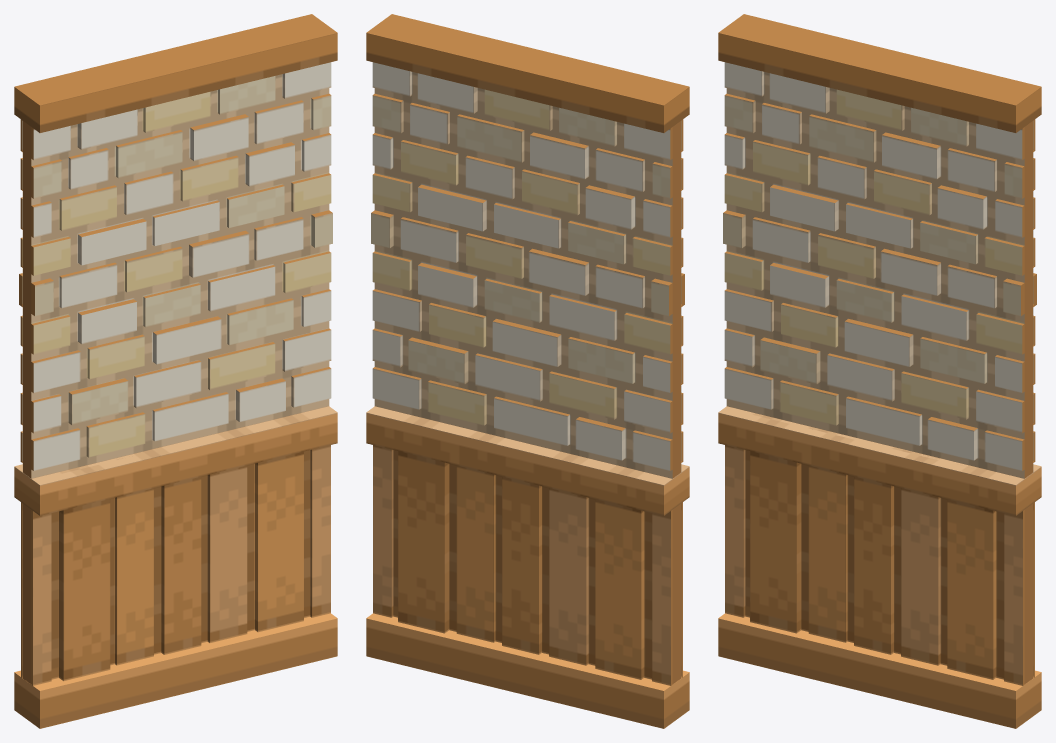
The model's file is Wall_Prototype_NoCam.fbx.
3 renders of one model, left to right at view 1: azimuth 30°, elevation 25°; view 2: azimuth 150°, elevation 25°; view 3: azimuth 330°, elevation 25°, orthographic.
Parts seen in each view (by area): view 1: Plane, Plane.001, Side Wall.001; view 2: Plane.001, Plane, Side Wall.001; view 3: Plane, Plane.001, Side Wall.
Part boxes in pixels (x1,y1,x2,y2): Plane: (31,26,337,728); Plane.001: (14,14,331,722); Side Wall.001: (23,121,31,683); Plane.001: (366,20,683,728); Plane: (384,14,689,714); Side Wall.001: (672,121,680,683); Plane: (718,26,1024,728); Plane.001: (725,14,1041,722); Side Wall: (1024,121,1032,683).
Size of the model in its own units: 200 by 400 by 30.
